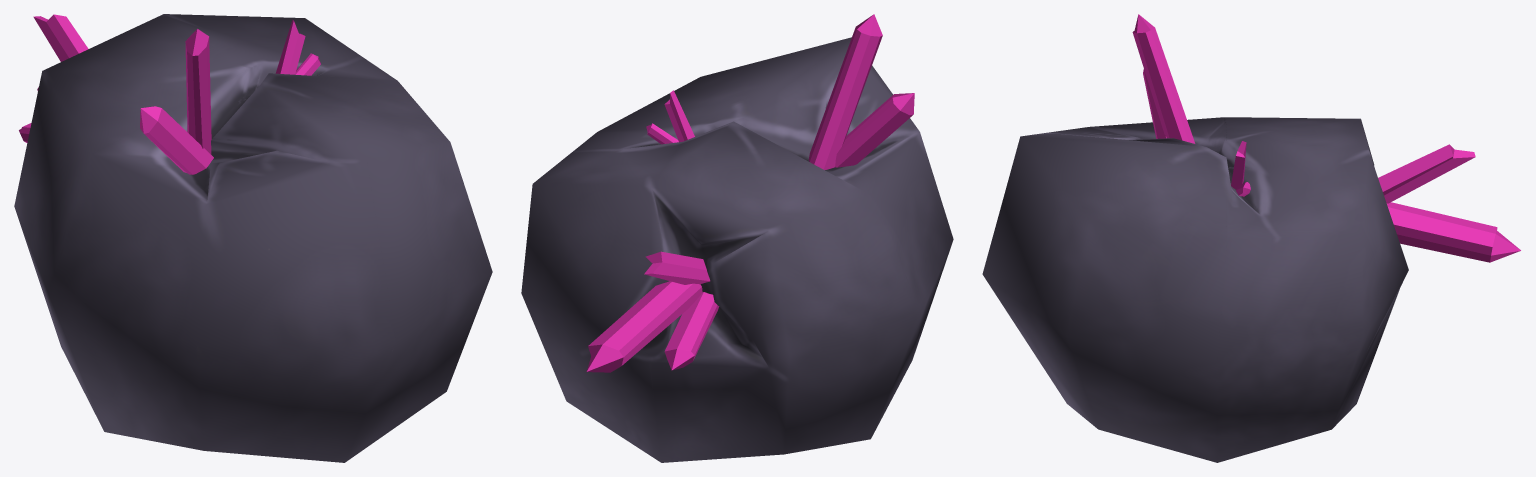
The model's file is chalcopyrite.glb.
3 renders of one model, left to right at view 1: azimuth 30°, elevation 25°; view 2: azimuth 150°, elevation 25°; view 3: azimuth 270°, elevation 25°, orthographic. The views are drawn at different scales.
Visible parts, largest first — view 1: stone03LOD0, stone-03CrystalsLOD0; view 2: stone03LOD0, stone-03CrystalsLOD0; view 3: stone03LOD0, stone-03CrystalsLOD0.
Boxes of the visible parts, x1,y1,x2,y2 form: stone03LOD0: [14, 14, 492, 462]; stone-03CrystalsLOD0: [19, 14, 320, 174]; stone03LOD0: [521, 37, 953, 462]; stone-03CrystalsLOD0: [586, 14, 914, 372]; stone03LOD0: [982, 117, 1408, 462]; stone-03CrystalsLOD0: [1132, 14, 1520, 262].
Size of what is drawn, in the model's own units: 1.68 by 1.68 by 2.36.
Materials: 2 (1 with a texture image).
